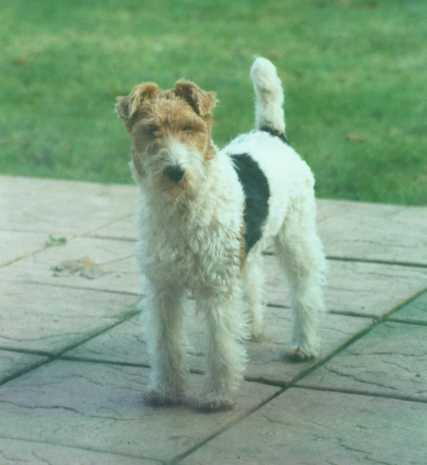wire-haired_fox_terrier: (111, 53, 329, 415)
